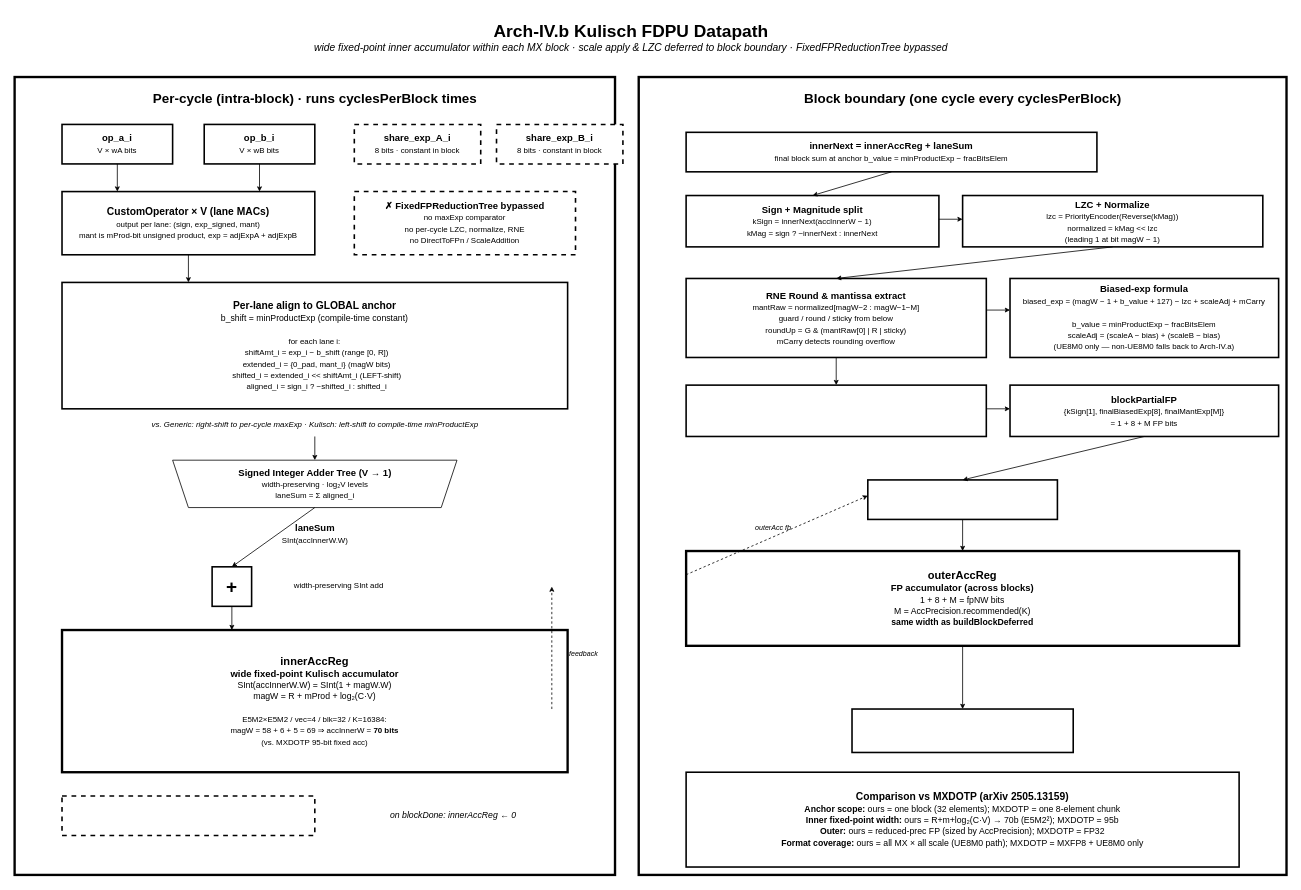
Image size: 1301x890. Some labels were removed from this diagram. Here are the shapes that lost their labels. From the top down, the centre of each, then its label:
At point (836, 410): "Overflow / Underflow clamp newExpRaw ≥ 255 ⇒ +Inf newExpRaw ≤ 0 / isMagZero ⇒ 0".
At point (962, 499): "FPNAdder (M-bit mant)".
At point (962, 730): "io.accOut Zero-pad mantissa to 23 bits → FP32".
At point (188, 815): "blockCnt mod cyclesPerBlock → blockDone @ cycle (C−1)".
